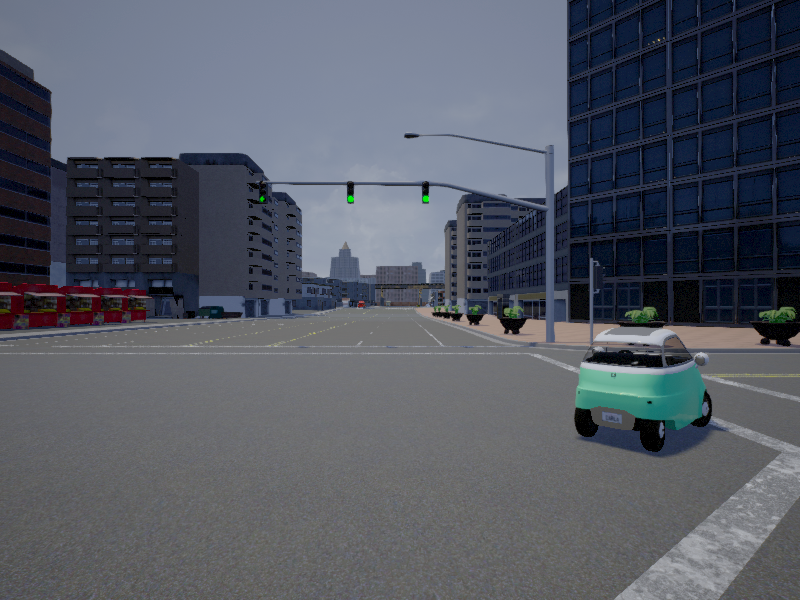Benign: (575, 328, 714, 453)
